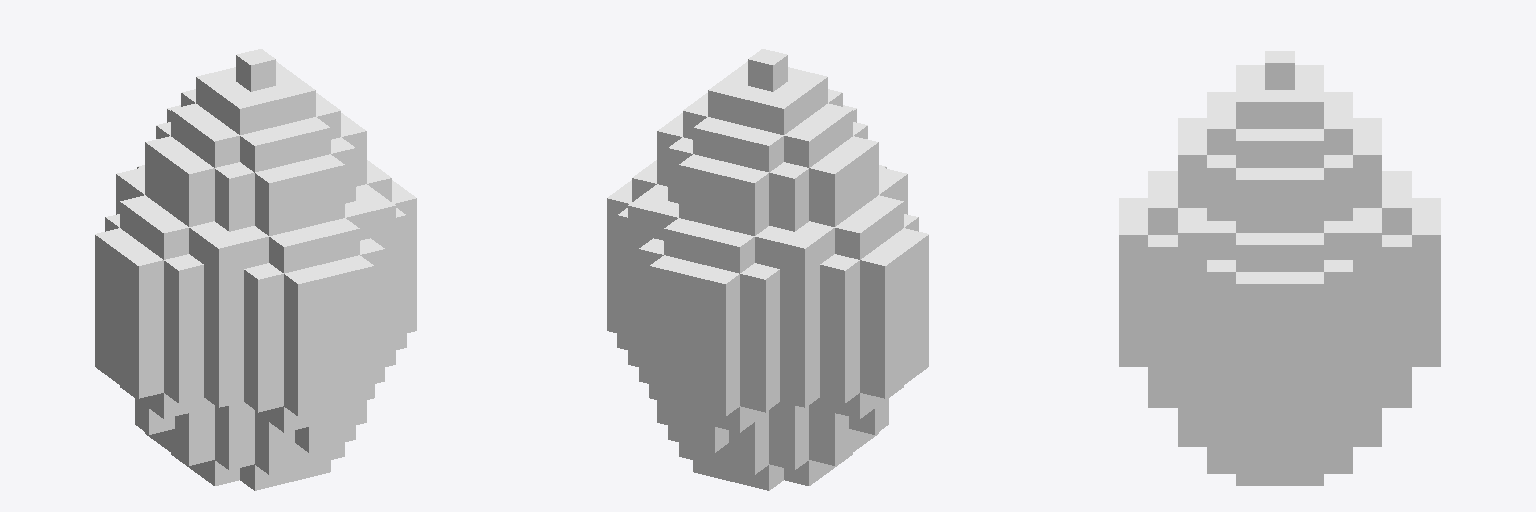
The model's file is treeCrown.obj.
The picture shows the model from 3 angles: view 1: azimuth 30°, elevation 25°; view 2: azimuth 150°, elevation 25°; view 3: azimuth 270°, elevation 25°; orthographic projection.
Parts seen in each view (by area): view 1: object 1; view 2: object 1; view 3: object 1.
Boxes of the visible parts, x1,y1,x2,y2 form: object 1: [95, 49, 416, 490]; object 1: [607, 49, 928, 490]; object 1: [1119, 51, 1440, 485].
Bounding box in the file's own units: 1.1 × 1.5 × 1.1.